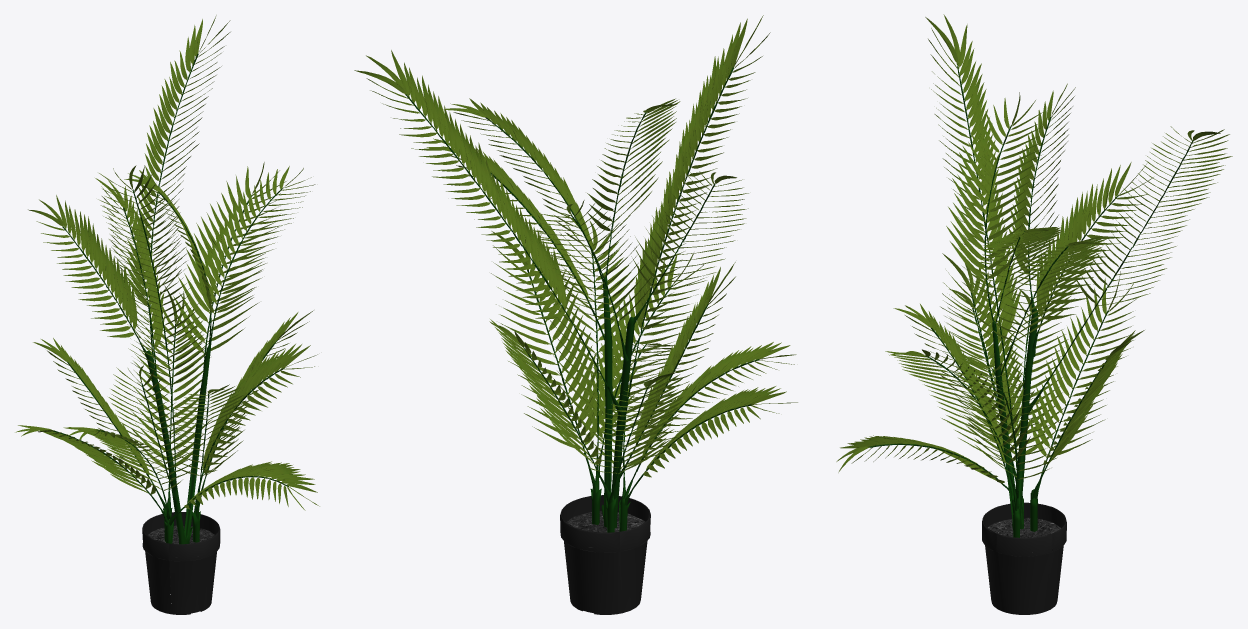
3 views of the same model, side by side, from view 1: azimuth 30°, elevation 25°; view 2: azimuth 150°, elevation 25°; view 3: azimuth 270°, elevation 25° (orthographic). The views are drawn at different scales.
Parts seen in each view (by area): view 1: a; view 2: a; view 3: a.
Part boxes in pixels (<box>): a: <box>15,15,319,614</box>; a: <box>354,15,797,614</box>; a: <box>836,14,1232,614</box>.
Size of the model in its own units: 0.8141 by 1.29 by 0.8652.
Materials: 4 (2 with a texture image).
